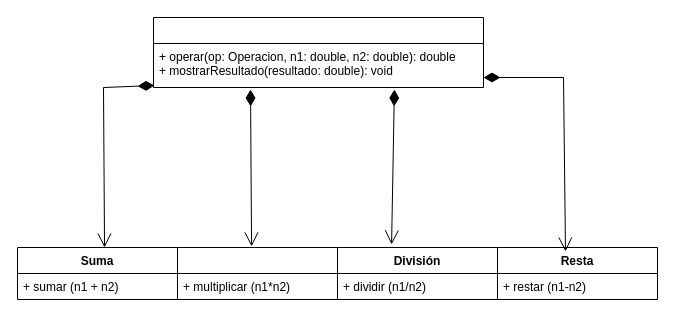
Some shapes in this 675 by 320 pixel diagram are drawn without their labels. The box of each missing label's shape, as (x1, y1, x2, y2) in pixels:
Calculadora: (152, 16, 484, 88)
Multiplicación: (176, 246, 338, 300)
